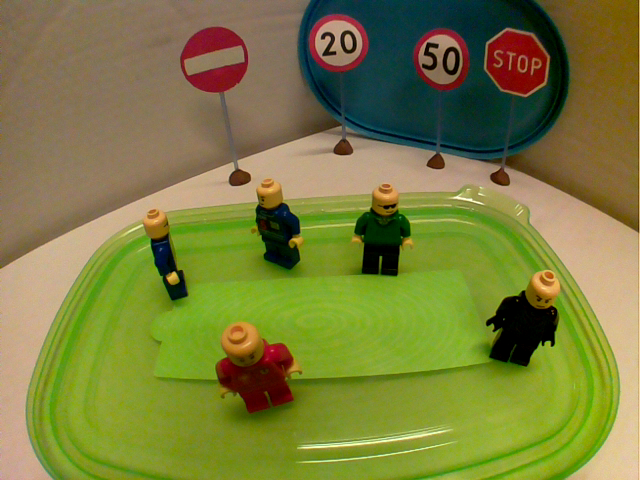Ograniczenie 20: (303, 12, 373, 76)
Ograniczenie 50: (410, 24, 474, 95)
Postac LEGO: (210, 314, 306, 420), (481, 267, 566, 373), (348, 180, 419, 282), (251, 172, 310, 276), (138, 204, 194, 304)
Stop: (479, 25, 554, 100)
Zakaz: (177, 23, 252, 100)
